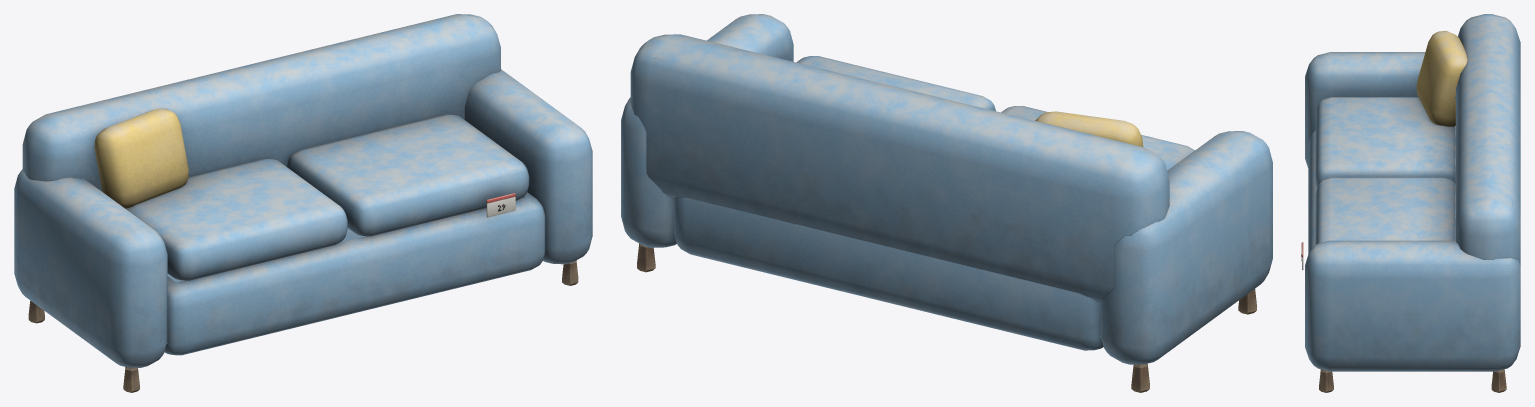
File: couch.fbx
The picture shows the model from 3 angles, left to right: view 1: azimuth 30°, elevation 25°; view 2: azimuth 150°, elevation 25°; view 3: azimuth 270°, elevation 25°; orthographic projection. The views are drawn at different scales.
Visible parts, largest first — view 1: Body; view 2: Body; view 3: Body.
Part boxes in pixels (x1=…): Body: x1=14, y1=14, x2=592, y2=392; Body: x1=621, y1=14, x2=1272, y2=392; Body: x1=1301, y1=14, x2=1520, y2=392.
Bounding box in the file's own units: 7 × 2.85 × 3.05.
Materials: 1 (1 with a texture image).
